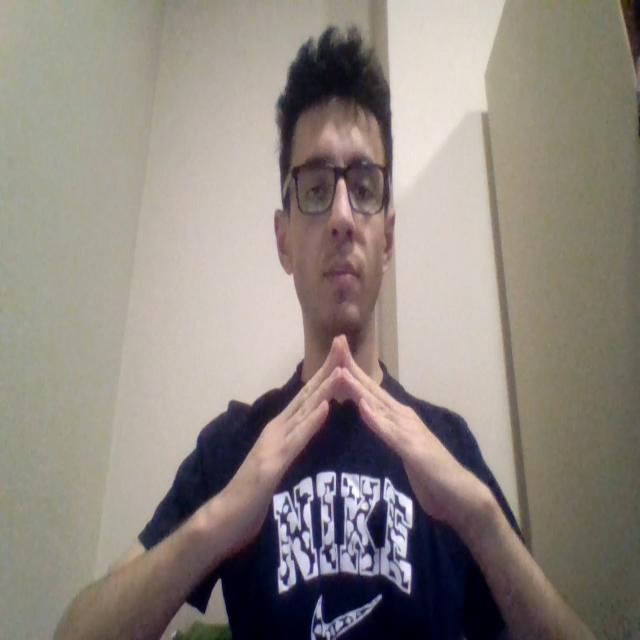house: (225, 336, 466, 532)
